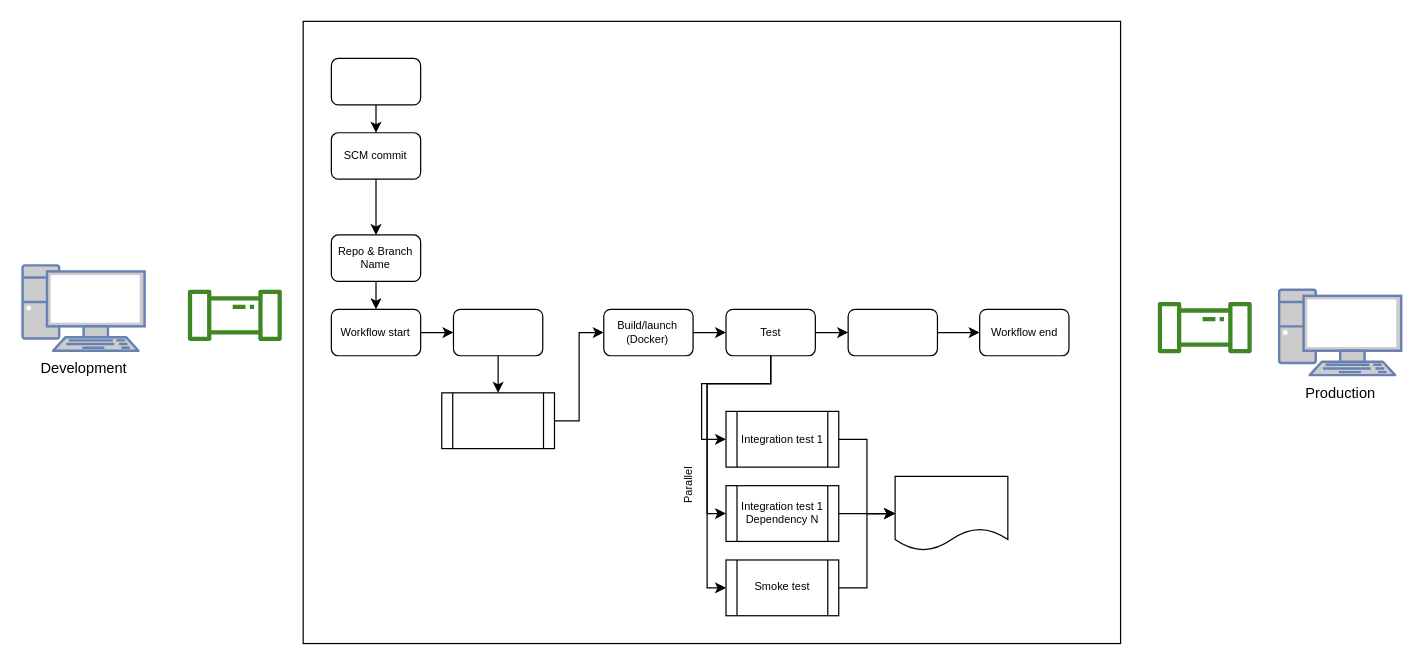
Some shapes in this 1423 by 665 pixel diagram are drawn without their labels. Each missing label, with the centre of its shape:
Collect dependent repos: point (497, 420)
Deploy (Ansible): point (892, 332)
SCM checkout: point (497, 332)
Start: point (375, 81)
Test result: point (951, 513)
